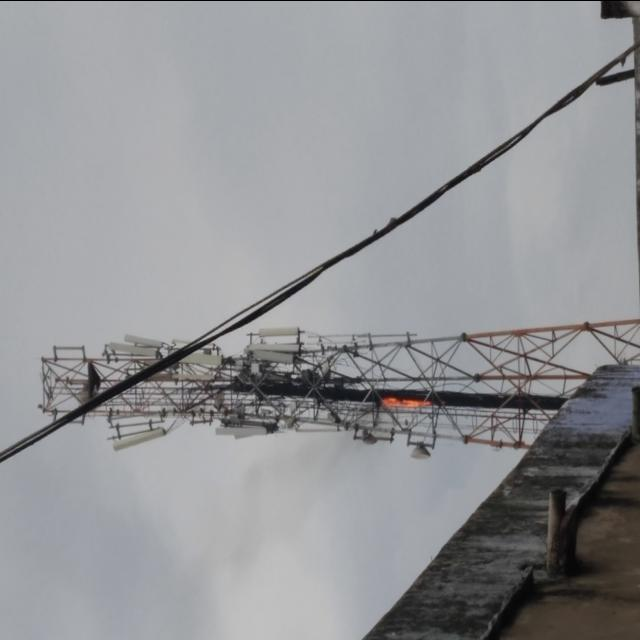firerotation: (381, 394, 433, 412)
